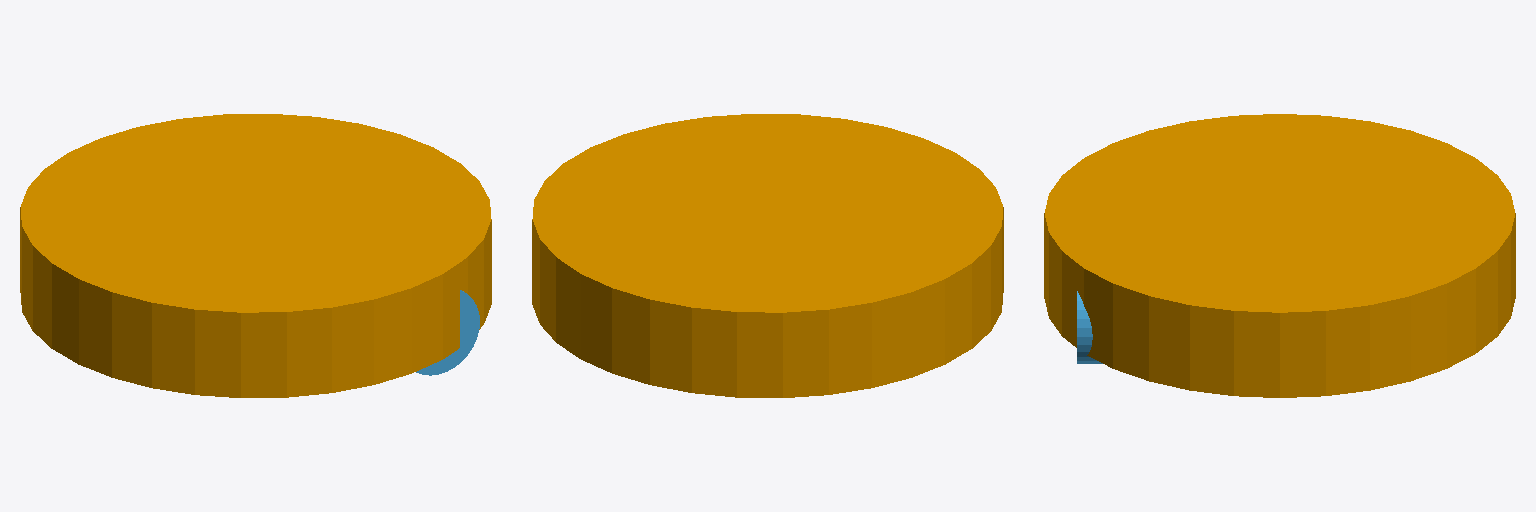
The robot description file, URDF, robot "mon_premier_robot":
<?xml version ="1.0"?>
<robot name="mon_premier_robot">
    <link name="base_link">
        <visual>
            <geometry>
                <cylinder radius="0.25" length="0.1" />
            </geometry>
        </visual>
    </link>


    <link name="right_wheel">
        <visual>
            <geometry>
                <cylinder radius="0.05" length="0.03" />
            </geometry>
            <origin rpy="1.57075 0.0 0.0"/>
        </visual>
    </link>

    <joint name="right_wheel_joint" type="continuous">
        <parent link="base_link"/>
        <child link="right_wheel"/>
        <origin xyz="0.1 -0.2 -0.025"/>
        <axis xyz="0.0 1.0 0.0"/>
    </joint>    

    <!-- TACHE 04 : AJOUTER LA ROUE GAUCHE
    Ajouter la roue gauche symetrique a la roue droite par rapport au plan central du robot XZ
    -->


    <!-- FIN DE LA TACHE 04-->

</robot>

--- What the picture shows (computed from the rendered views, not written in the file) ---
The picture shows the robot from 3 angles, left to right: view 1: azimuth 30°, elevation 25°; view 2: azimuth 150°, elevation 25°; view 3: azimuth 270°, elevation 25°; orthographic projection.
Model mon_premier_robot with 2 links and 1 joints (1 continuous), rooted at base_link, posed all joints at 0.
Visible links, largest first — view 1: base_link, right_wheel; view 2: base_link; view 3: base_link, right_wheel.
Link boxes in pixels (bbox=[...]): base_link: bbox=[20, 114, 491, 397]; right_wheel: bbox=[416, 290, 479, 375]; base_link: bbox=[532, 114, 1003, 397]; base_link: bbox=[1044, 114, 1515, 397]; right_wheel: bbox=[1077, 291, 1102, 363].
Bounding box of the posed robot: 0.5 × 0.5 × 0.125 m (x, y, z).
Geometry: primitives only (box / cylinder / sphere), no mesh files.